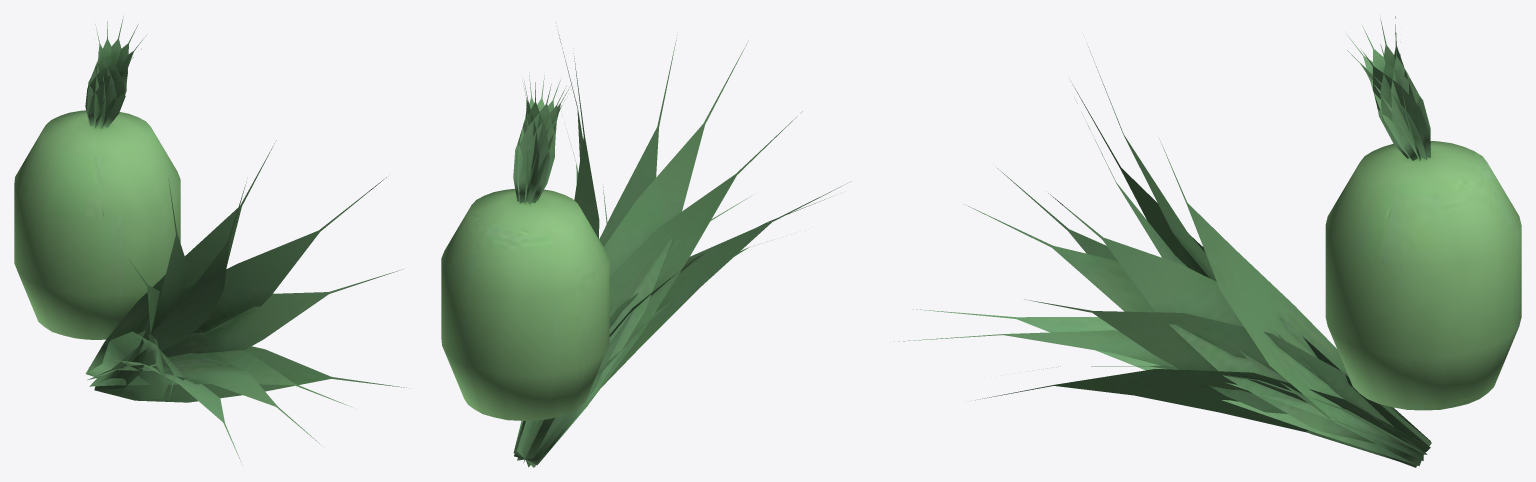
The model's file is crop_aloe.glb.
3 renders of one model, left to right at view 1: azimuth 30°, elevation 25°; view 2: azimuth 150°, elevation 25°; view 3: azimuth 270°, elevation 25°, orthographic. The views are drawn at different scales.
Parts seen in each view (by area): view 1: crop_aloe, fruit; view 2: fruit, crop_aloe; view 3: crop_aloe, fruit.
Boxes of the visible parts, box(x1,y1,x2,y2) form: crop_aloe: box(85, 16, 406, 465); fruit: box(14, 110, 180, 339); fruit: box(441, 188, 609, 420); crop_aloe: box(513, 34, 851, 467); crop_aloe: box(894, 16, 1431, 467); fruit: box(1325, 141, 1521, 410).
Bounding box in the file's own units: 0.2292 × 0.2923 × 0.3767.
1 material, 1 textured.
